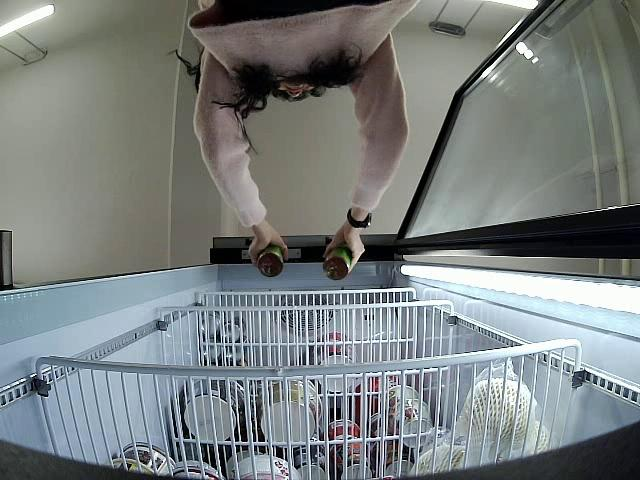00_hand: (323, 227, 367, 276), (247, 225, 289, 266)
19_17cha: (257, 242, 285, 279), (323, 246, 352, 281)
